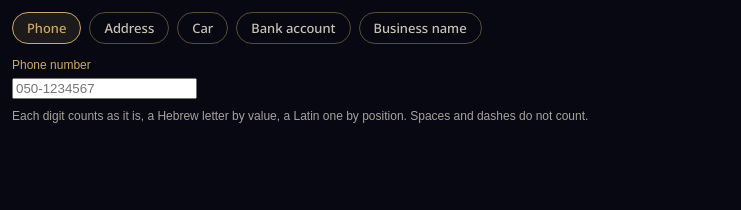
Test: practical numbers › speaks English
Type "111" into the field labelled "Phone number".
click(104, 89); type("111")  # box [12,78,197,99]
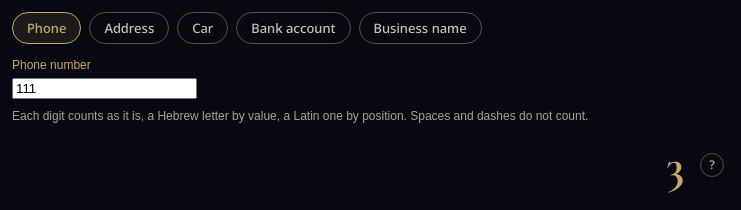
Result: the text with test id "practical-number" reads "3" at [666,137,684,193]
